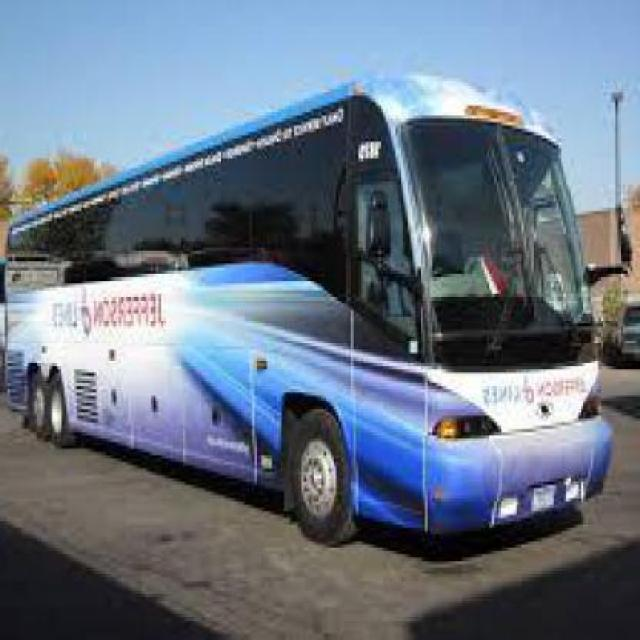bus: (16, 72, 615, 550)
